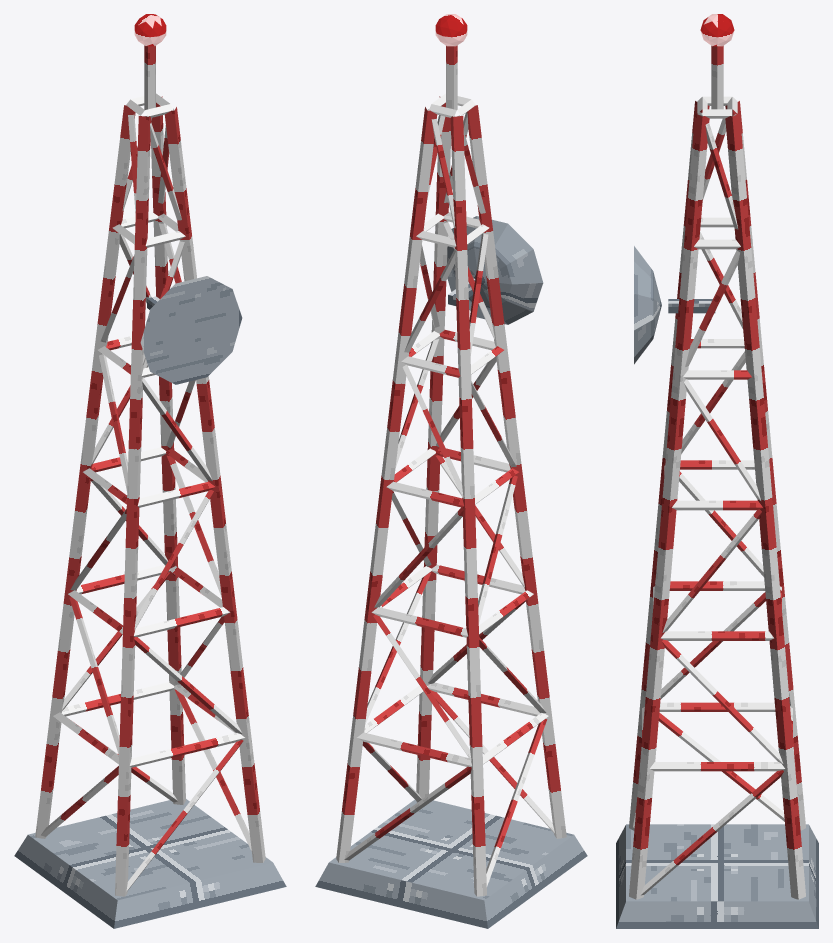
File: antenna.glb
3 renders of one model, left to right at view 1: azimuth 30°, elevation 25°; view 2: azimuth 150°, elevation 25°; view 3: azimuth 270°, elevation 25°, orthographic.
Visible parts, largest first — view 1: antenna; view 2: antenna; view 3: antenna.
Boxes of the visible parts, x1,y1,x2,y2 form: antenna: (14,14,286,928); antenna: (315,14,587,928); antenna: (616,14,818,928).
Bounding box in the file's own units: 0.95 × 4.5 × 0.95.
Materials: 3 (3 with a texture image).
